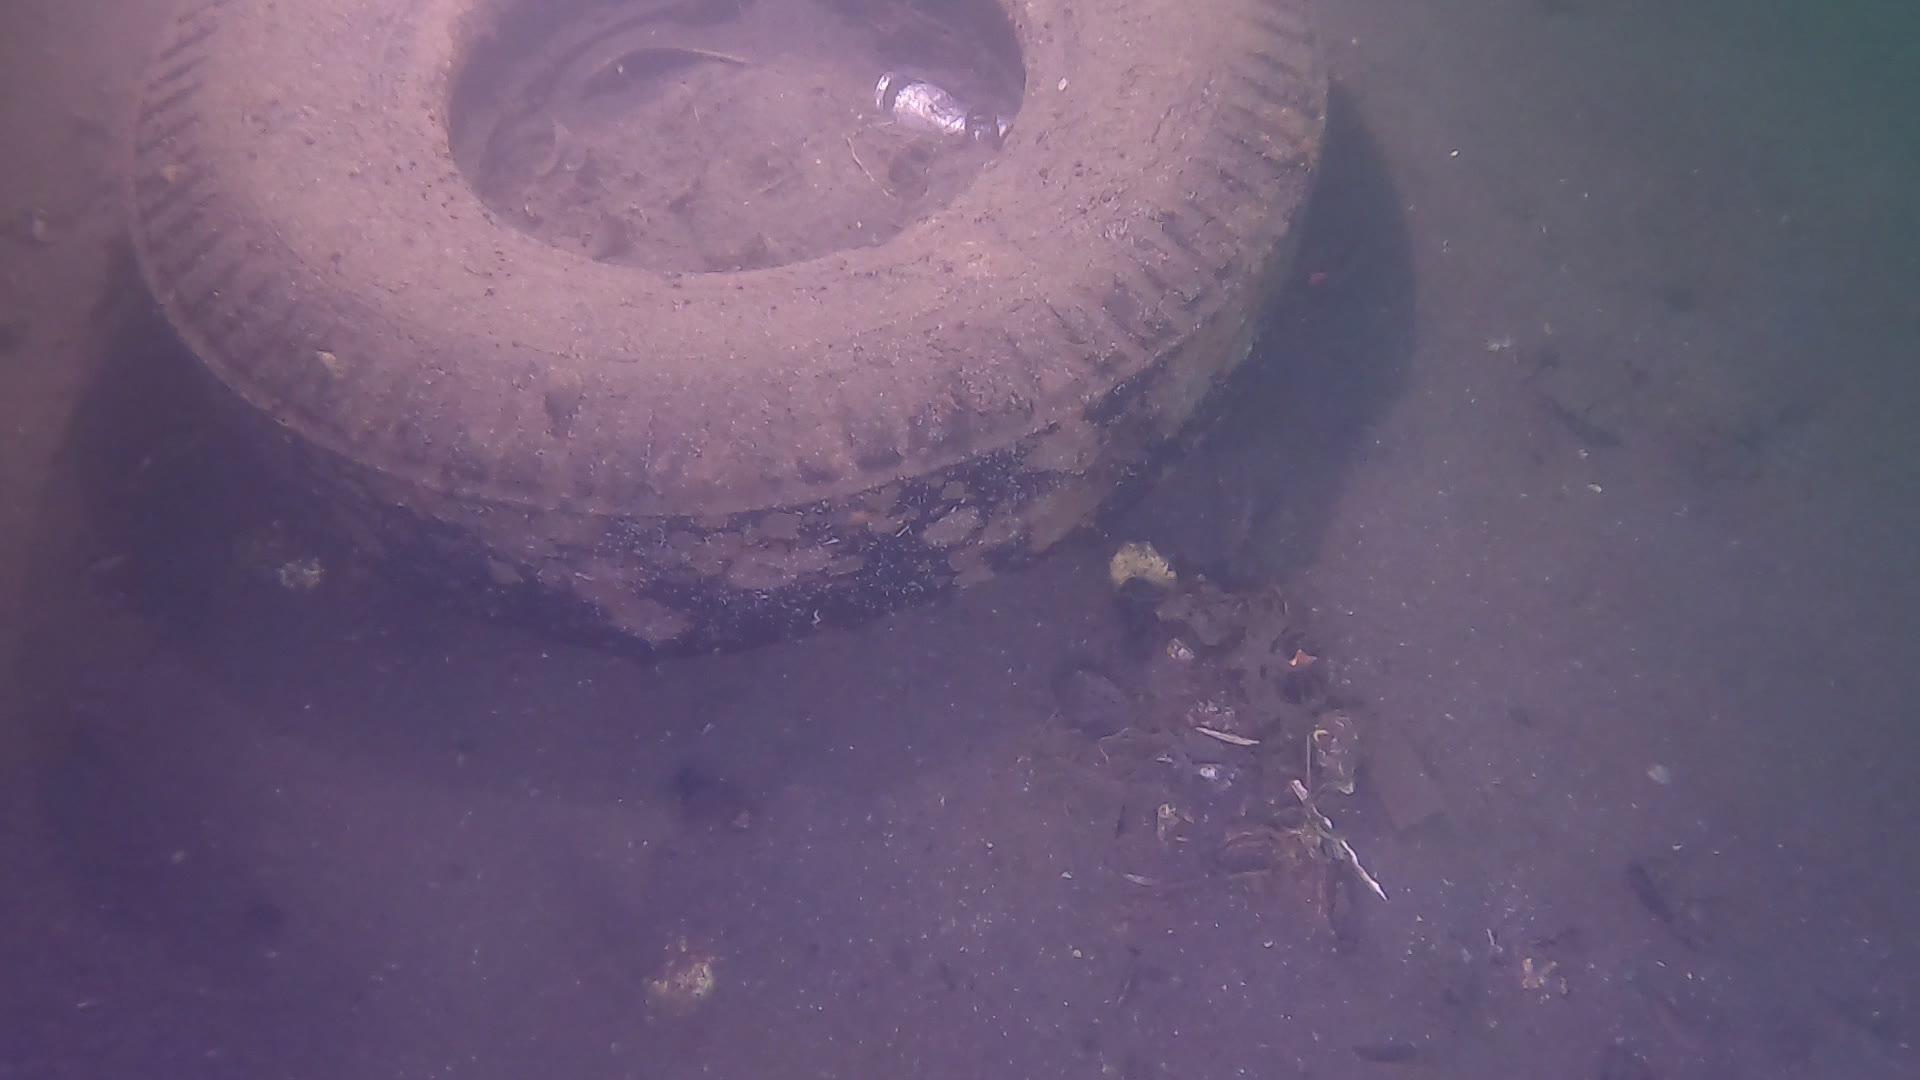tire: (119, 3, 1327, 651)
